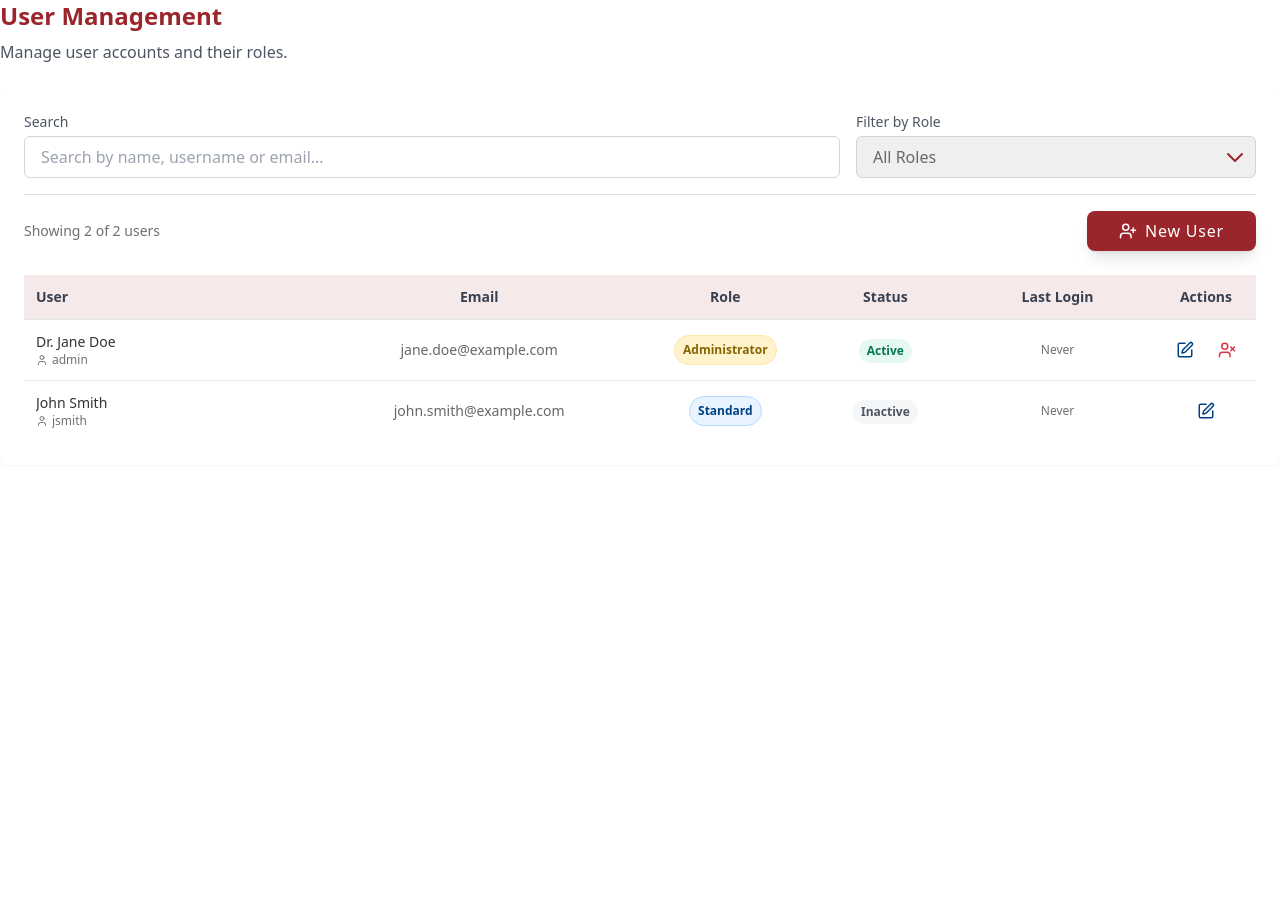
it: DashboardUserManagement › sends the role code when the role changes
This screenshot has width=1280, height=900.
Later steps or results of the test are not shown.
Expected: the text "John Smith" is shown, [36, 393, 107, 412]
Click the button named "Edit John Smith" at x=1206, y=411, box [1189, 394, 1223, 428]
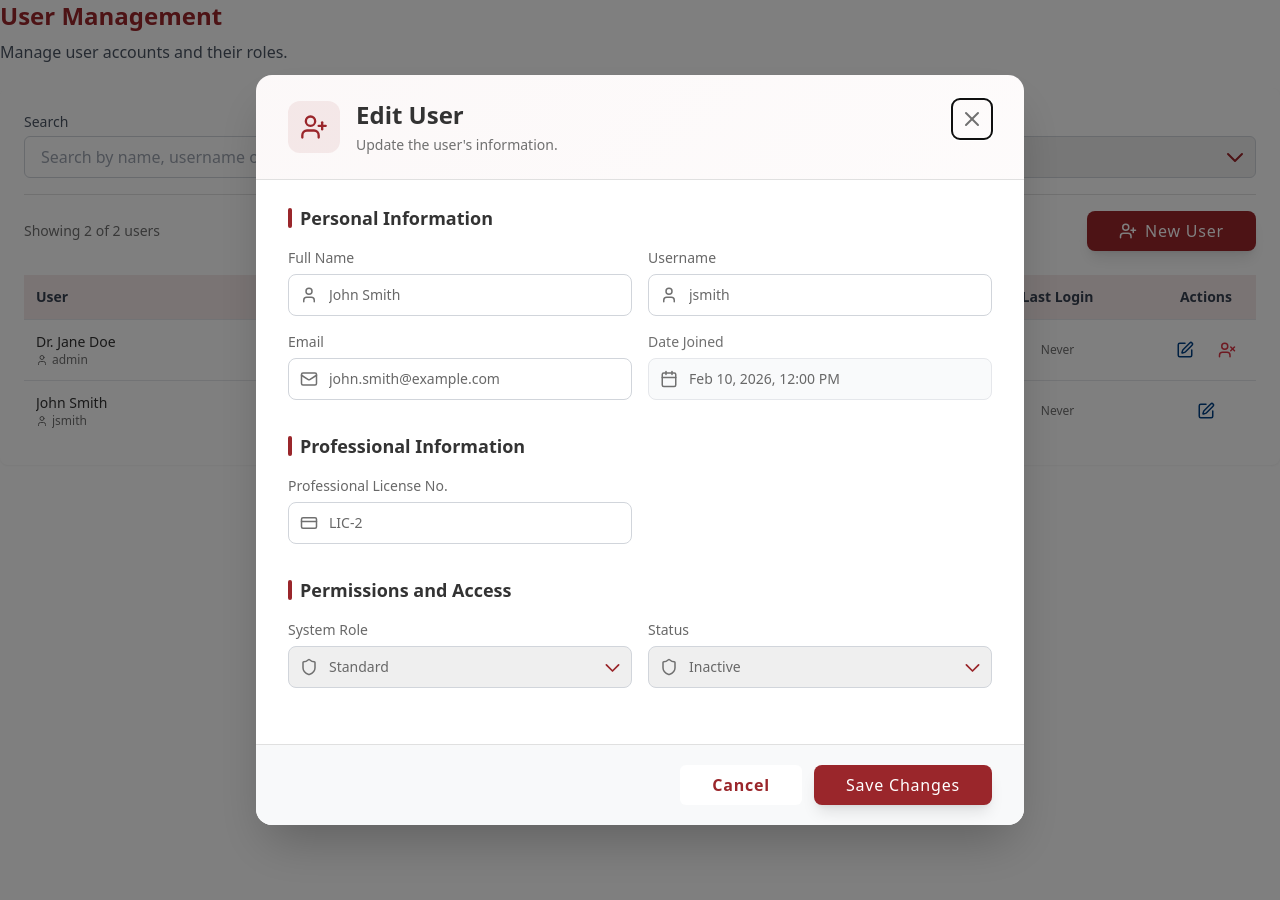
Expected: the heading "Edit User" is shown, [356, 98, 464, 131]
